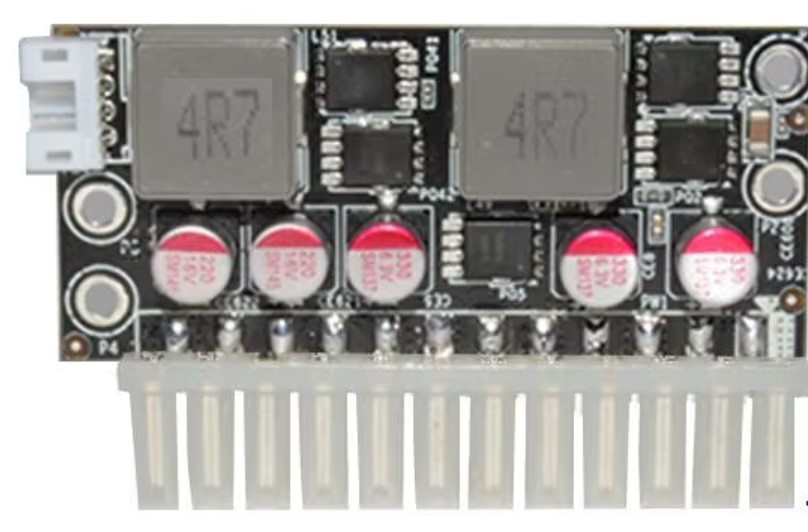Induktor: (130, 27, 307, 204), (453, 27, 626, 200)
